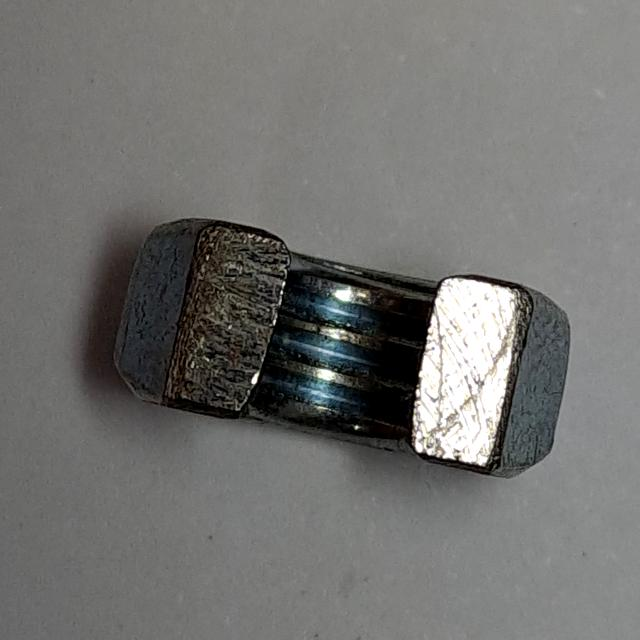Side-Fracture: (102, 199, 584, 496)
